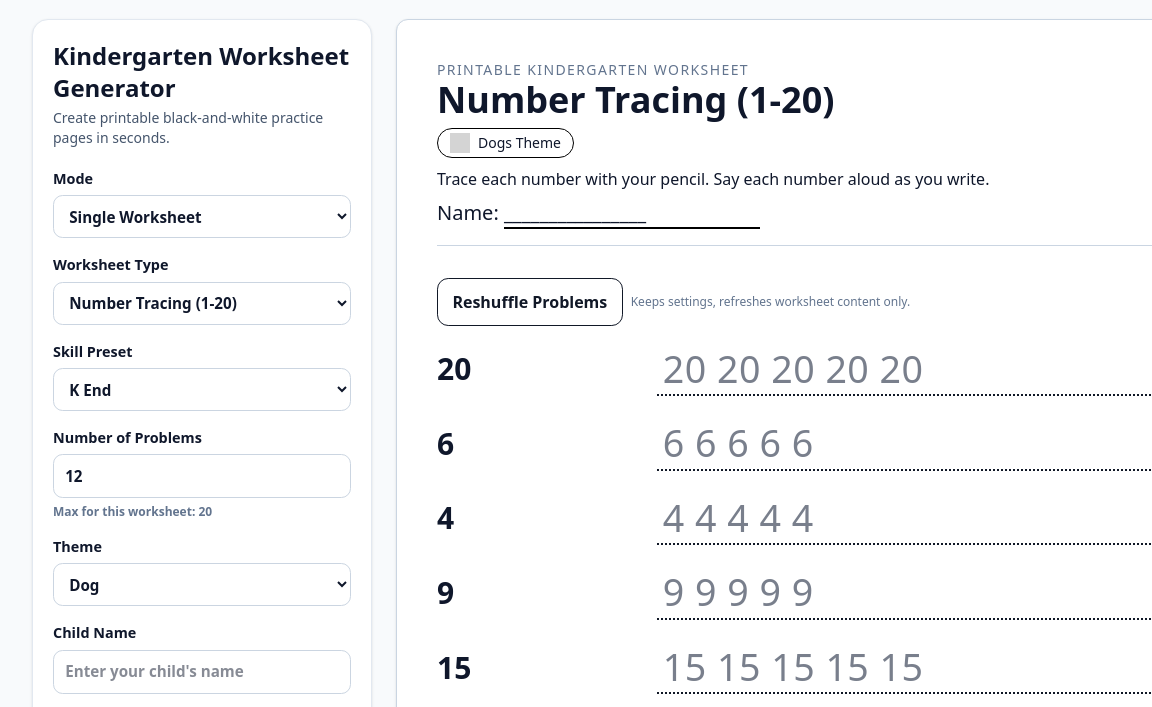
Scenario: app regression coverage › reshuffle updates status message
What coordinates should you click on to do the following:
click the button "Reshuffle Problems"
I would click on:
 (530, 302)
Its box is [437,278,623,326].
(page scrolled)
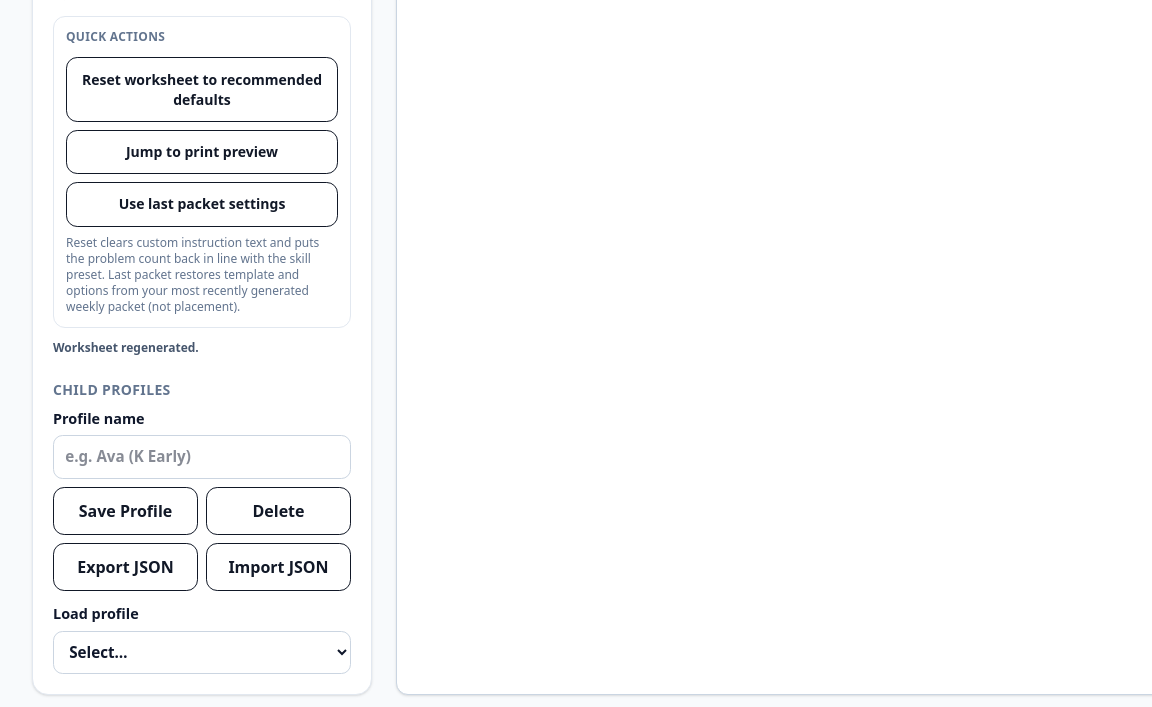
Check: the text "Worksheet regenerated." is shown, box [53,338,199,356]
